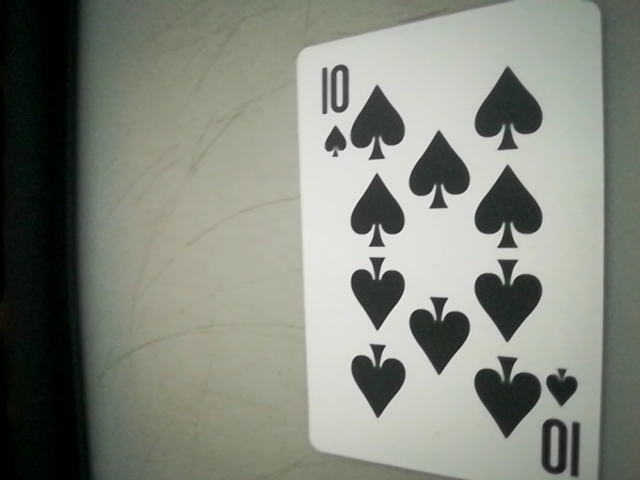ht 10: (303, 59, 370, 164)
